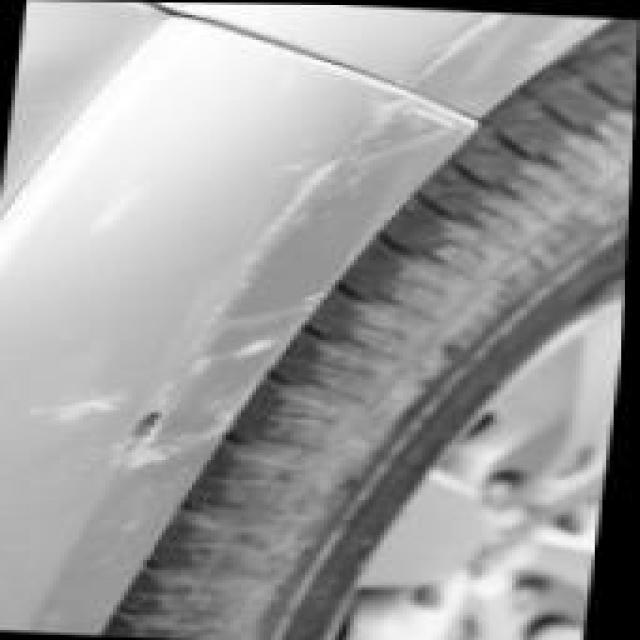Bumper: (0, 0, 495, 635)
Fender: (144, 2, 616, 100)
